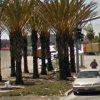Palm tree: (3, 2, 82, 77)
